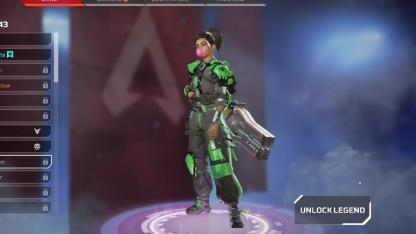Target: (176, 27, 230, 178)
